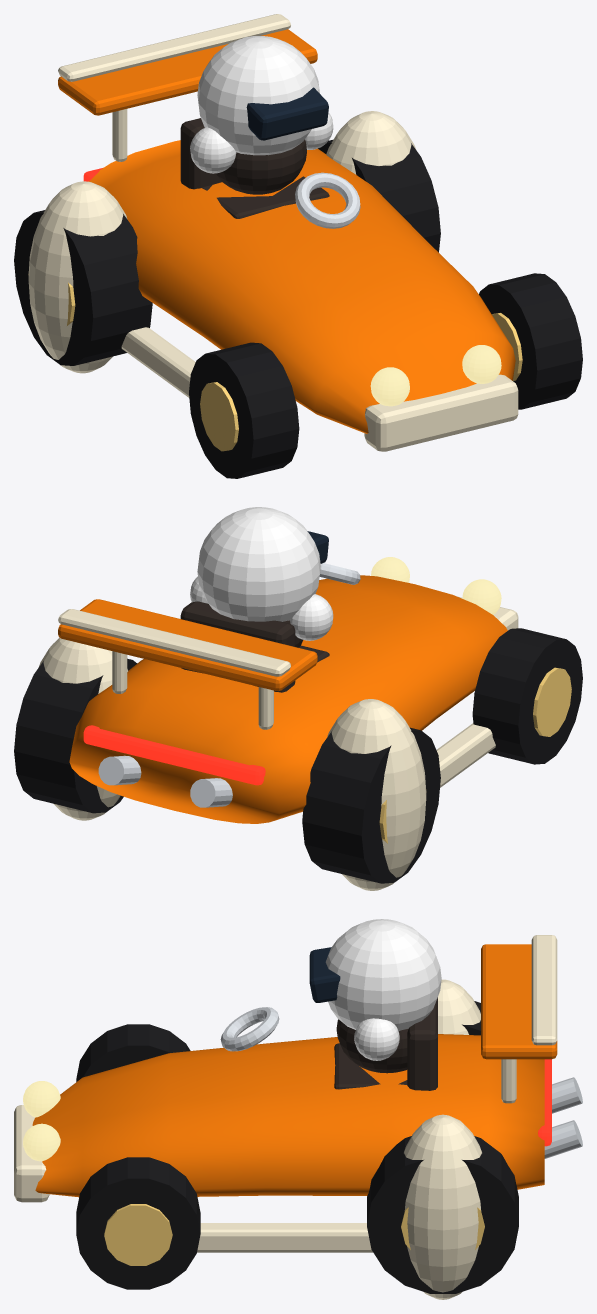
Rendered from kart.glb.
The picture shows the model from 3 angles, top to bottom: view 1: azimuth 30°, elevation 25°; view 2: azimuth 150°, elevation 25°; view 3: azimuth 270°, elevation 25°; orthographic projection. The views are drawn at different scales.
Visible parts, largest first — view 1: Body, TireRR, TireFR, Head, TireFL, Fender.001, Bumper, SpoWing, SpoTop, TireRL, Fender, Torso (+11 smaller); view 2: Body, TireRR, Head, TireFR, TireRL, Fender.001, SpoWing, SpoTop, TailBar, Fender, SeatBack, HubFR (+9 smaller); view 3: Body, Fender, TireFL, TireRL, Head, SpoWing, Skirt, TireFR, HubFL, SpoTop, SeatBack, Bumper (+12 smaller).
Boxes of the visible parts, x1,y1,x2,y2 form: Body: [88, 140, 515, 433]; TireRR: [14, 210, 152, 365]; TireFR: [189, 342, 299, 478]; Head: [197, 36, 319, 155]; TireFL: [479, 273, 582, 409]; Fender.001: [28, 181, 127, 373]; Bumper: [364, 374, 518, 451]; SpoWing: [58, 29, 317, 115]; SpoTop: [58, 14, 290, 81]; TireRL: [318, 140, 440, 252]; Fender: [326, 111, 416, 174]; Torso: [215, 139, 306, 194]; Body: [69, 575, 507, 823]; TireRR: [302, 727, 440, 883]; Head: [197, 507, 320, 621]; TireFR: [472, 628, 582, 764]; TireRL: [14, 658, 137, 813]; Fender.001: [327, 699, 426, 890]; SpoWing: [58, 599, 317, 690]; SpoTop: [58, 609, 290, 676]; TailBar: [83, 725, 265, 785]; Fender: [38, 637, 127, 820]; SeatBack: [180, 601, 295, 692]; HubFR: [533, 667, 571, 736]; Body: [32, 1034, 544, 1197]; Fender: [404, 1114, 481, 1299]; TireFL: [76, 1157, 200, 1289]; TireRL: [367, 1136, 518, 1293]; Head: [325, 919, 441, 1030]; SpoWing: [481, 944, 557, 1059]; Skirt: [197, 1223, 372, 1252]; TireFR: [76, 1024, 190, 1081]; HubFL: [104, 1204, 172, 1265]; SpoTop: [531, 935, 557, 1045]; SeatBack: [407, 997, 437, 1090]; Bumper: [14, 1105, 49, 1202].
Bounding box in the file's own units: 1.69 × 1.32 × 2.24.
